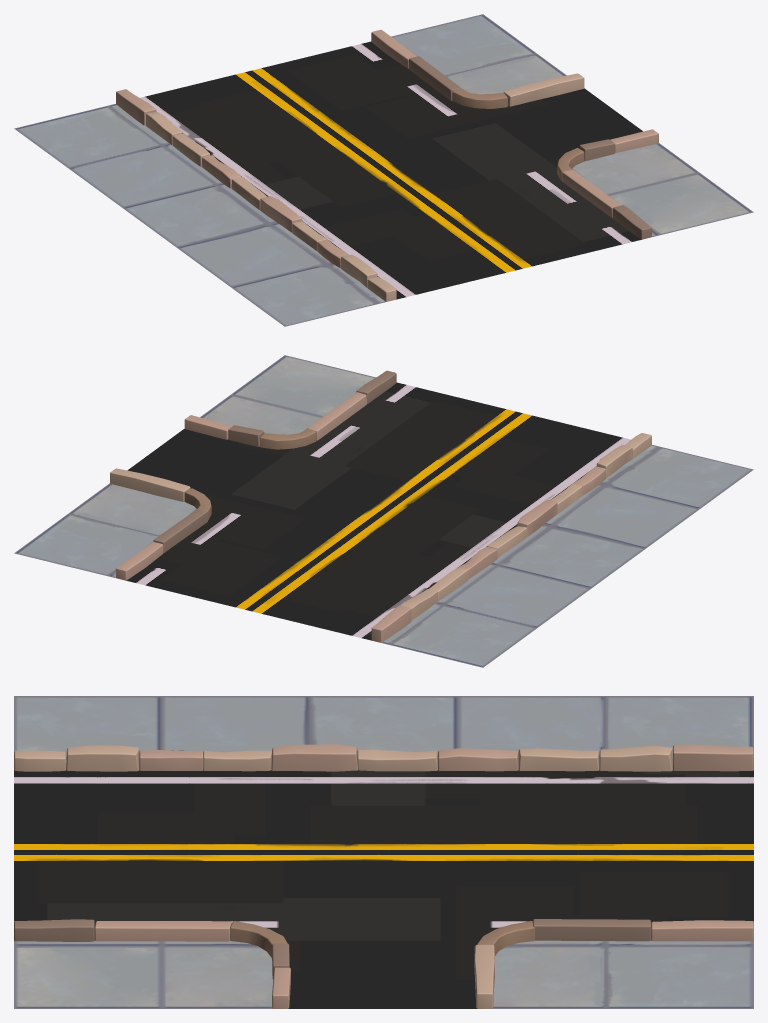
The model's file is CityRoad_endNarrowRoadTurn.fbx.
The picture shows the model from 3 angles, top to bottom: view 1: azimuth 30°, elevation 25°; view 2: azimuth 150°, elevation 25°; view 3: azimuth 270°, elevation 25°; orthographic projection. The views are drawn at different scales.
Visible parts, largest first — view 1: CityRoad_endNarrowRoadTurn_mesh; view 2: CityRoad_endNarrowRoadTurn_mesh; view 3: CityRoad_endNarrowRoadTurn_mesh.
Boxes of the visible parts, x1=… form: CityRoad_endNarrowRoadTurn_mesh: x1=14, y1=14, x2=753, y2=326; CityRoad_endNarrowRoadTurn_mesh: x1=14, y1=355, x2=753, y2=667; CityRoad_endNarrowRoadTurn_mesh: x1=14, y1=696, x2=753, y2=1008.
Size of the model in its own units: 1000 by 28.55 by 1000.
